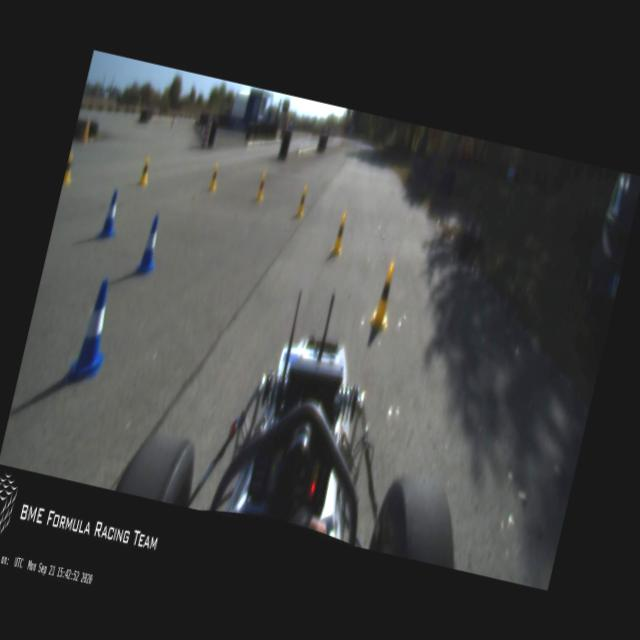blue_cone: (64, 274, 122, 390), (134, 212, 165, 276), (96, 188, 124, 240)
yellow_cone: (368, 262, 401, 332), (330, 211, 350, 257), (136, 155, 154, 187), (294, 184, 308, 219), (62, 152, 76, 185), (255, 172, 268, 202), (208, 162, 220, 192)
